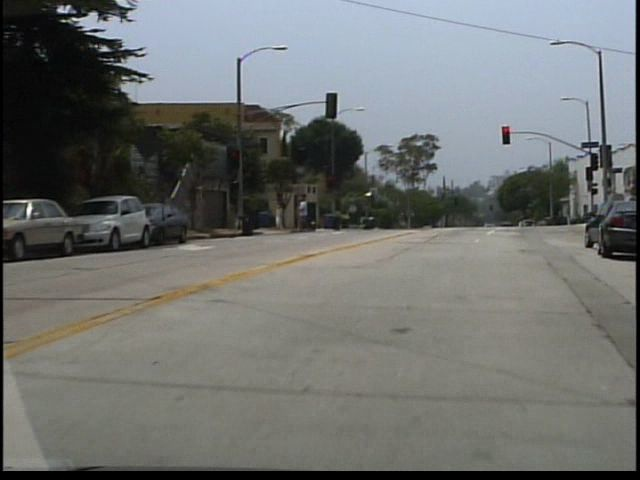person: (301, 198, 314, 235), (279, 203, 289, 233)
